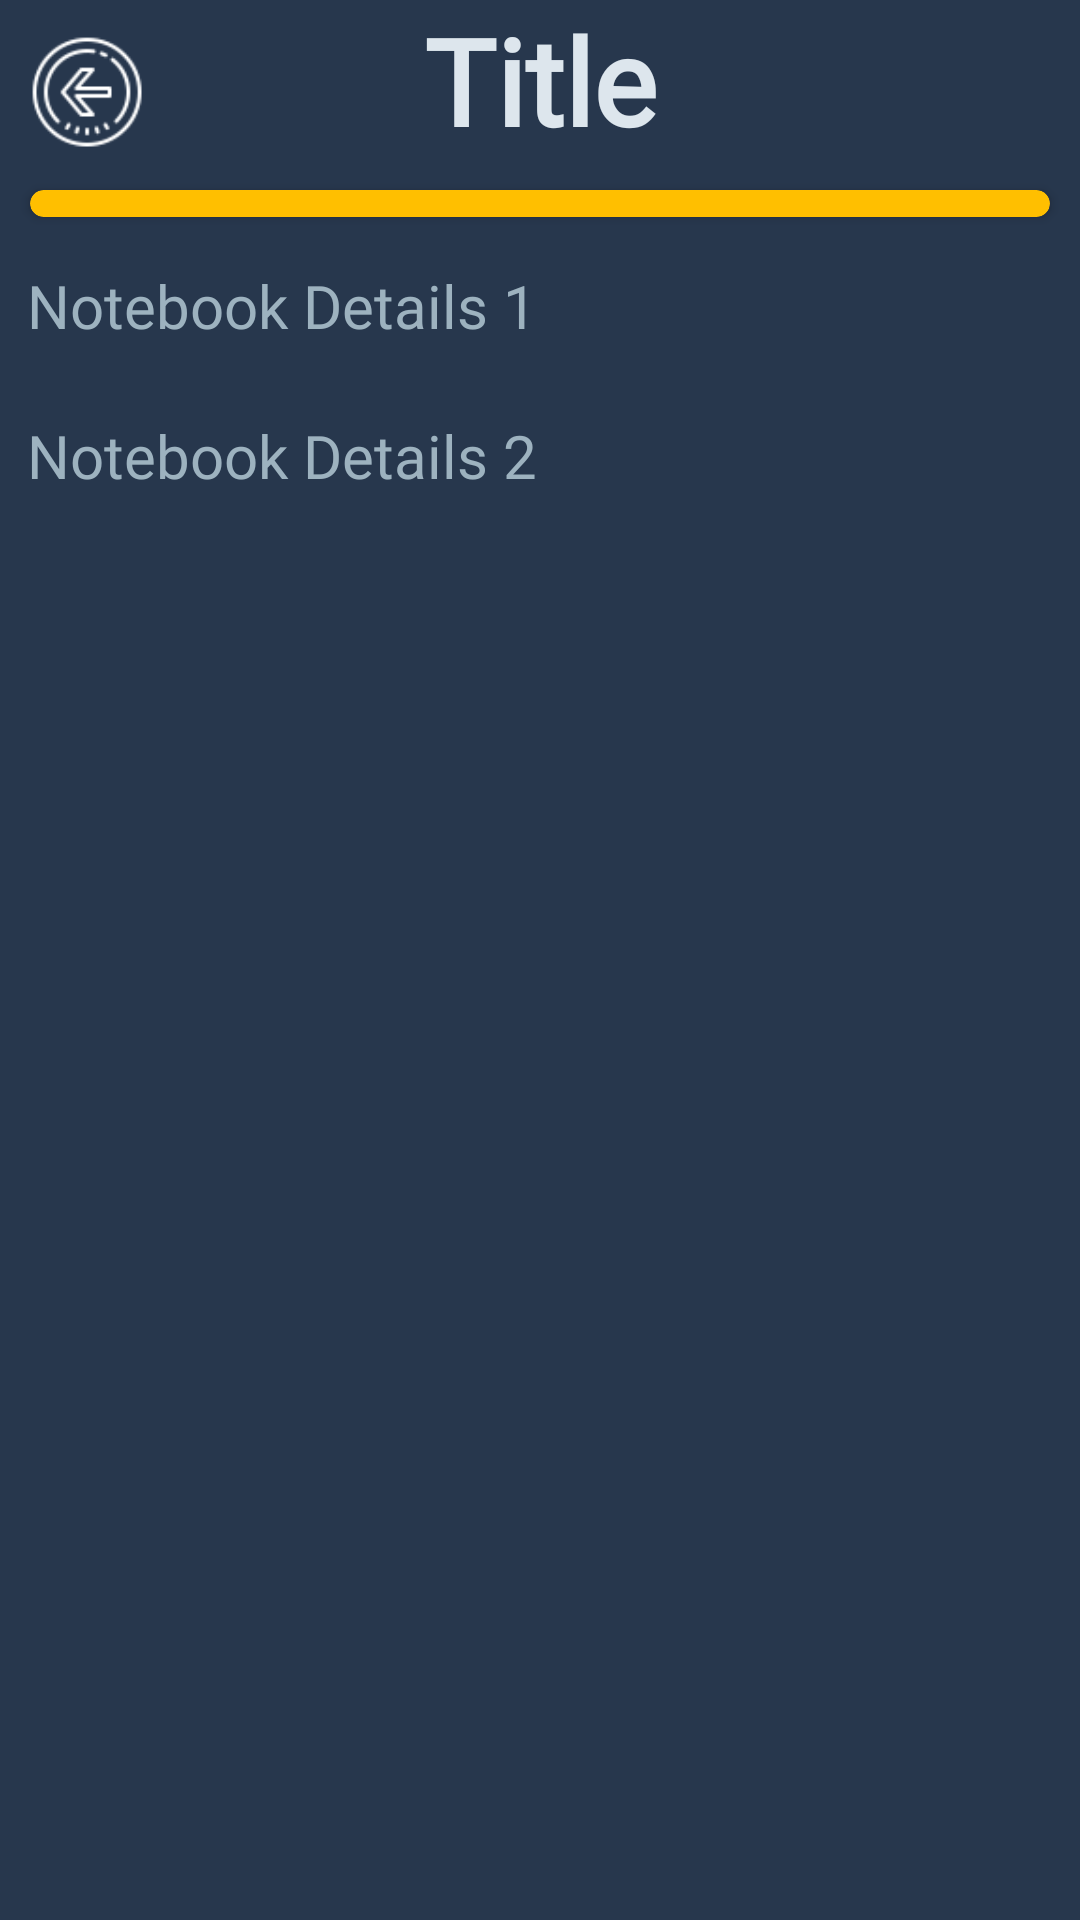

Where to tap for icons on this 1080w x 1920h app screen, as point (x, y):
back: point (87, 92)
